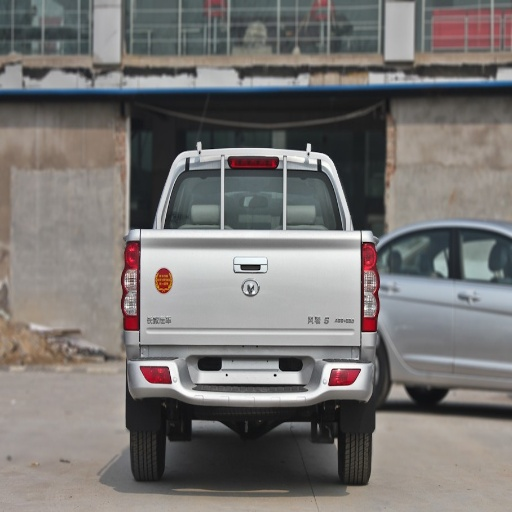back_bumper: (123, 332, 381, 408)
back_left_light: (121, 239, 140, 331)
back_right_door: (400, 228, 454, 375)
trunk: (129, 232, 362, 347)
